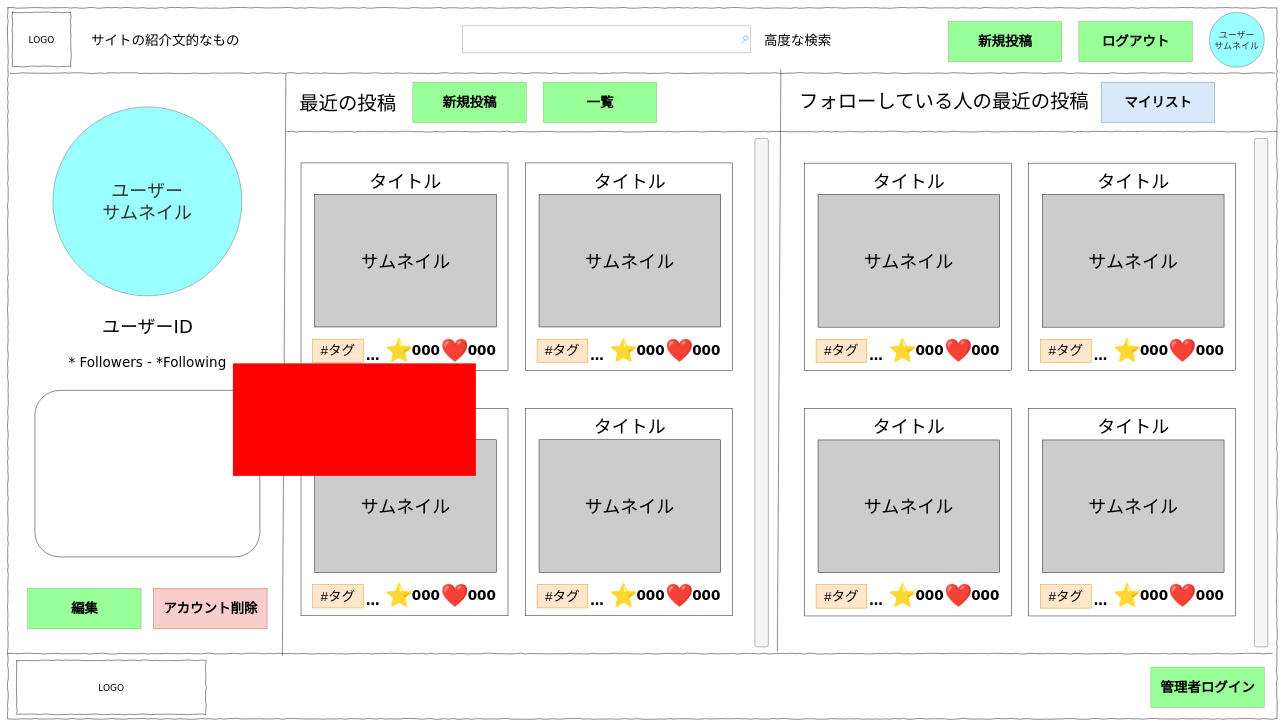
This 1285x727 diagram has some shape labels left out. Here are the shapes that lost their labels. From the top down, the centre of each, then its label:
At point (606, 39): "Search".
At point (354, 419): "フォロワー/フォロー中のユーザー一覧画面はTwitterと同じでいいんじゃない".
At point (147, 473): "自己紹介文".
